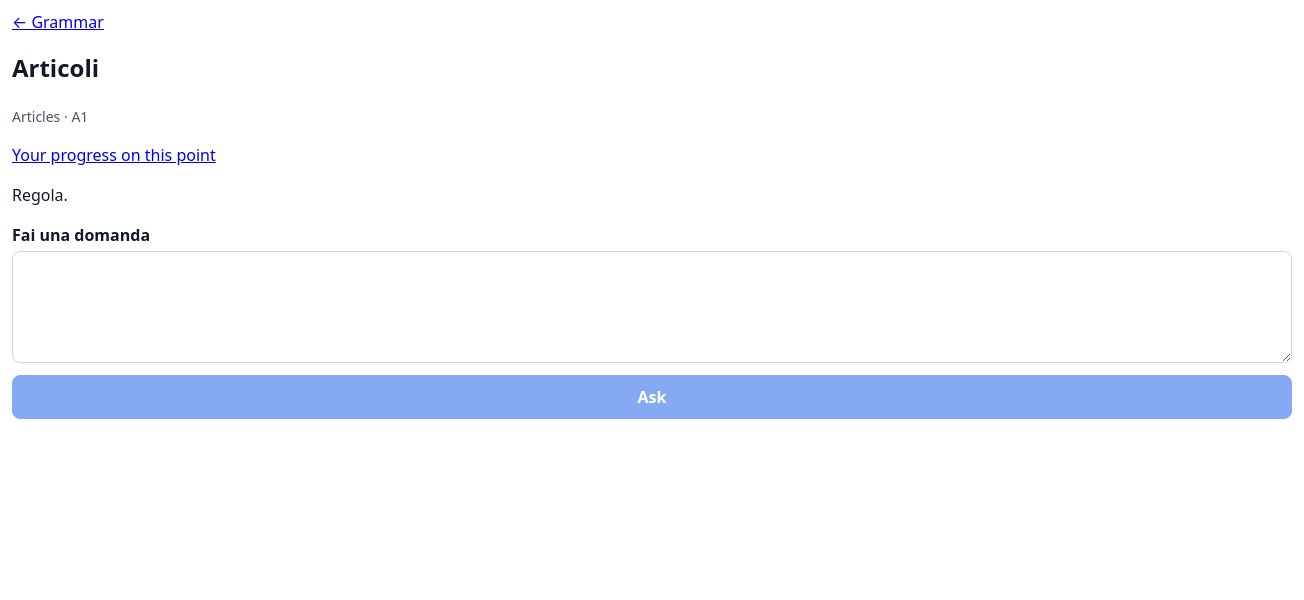
Test: GrammarDetailView › asks a question and renders the markdown answer with examples
Type "Quando uso den?" into the text box labelled "Fai una domanda".
click(652, 307); type("Quando uso den?")  # box [12, 251, 1292, 363]
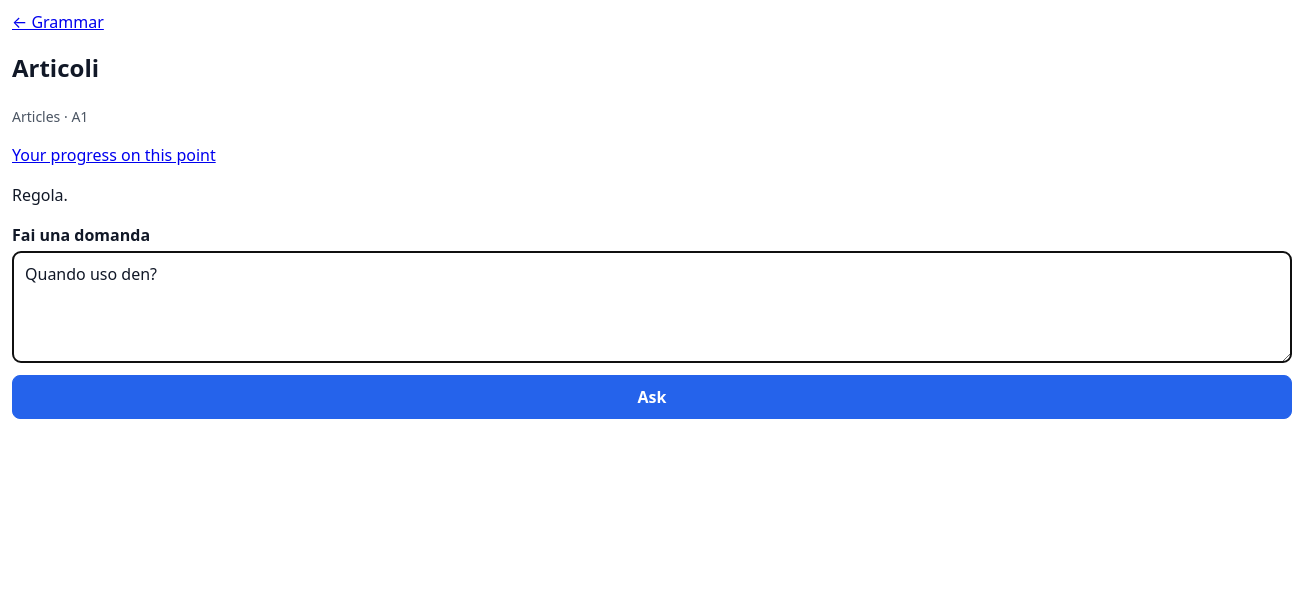
Click the button "Ask".
click(652, 397)  # box [12, 375, 1292, 419]
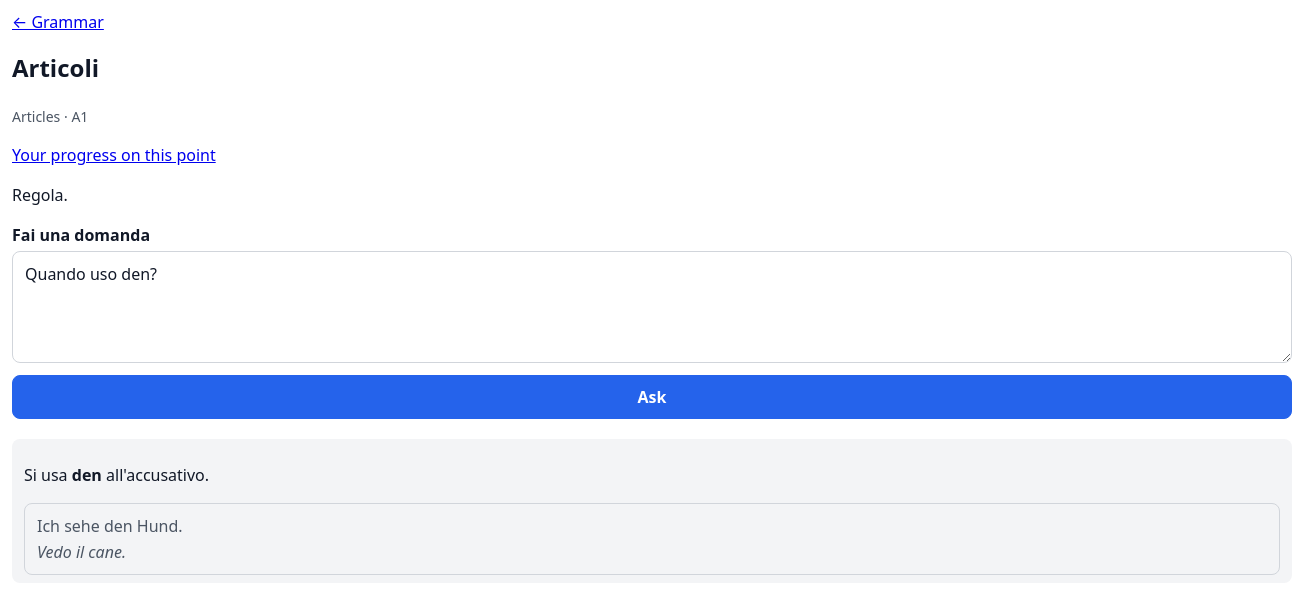
Expected: the text "Ich sehe den Hund." is shown, [37, 514, 183, 538]
Expected: the text "Vedo il cane." is shown, [37, 540, 126, 564]
